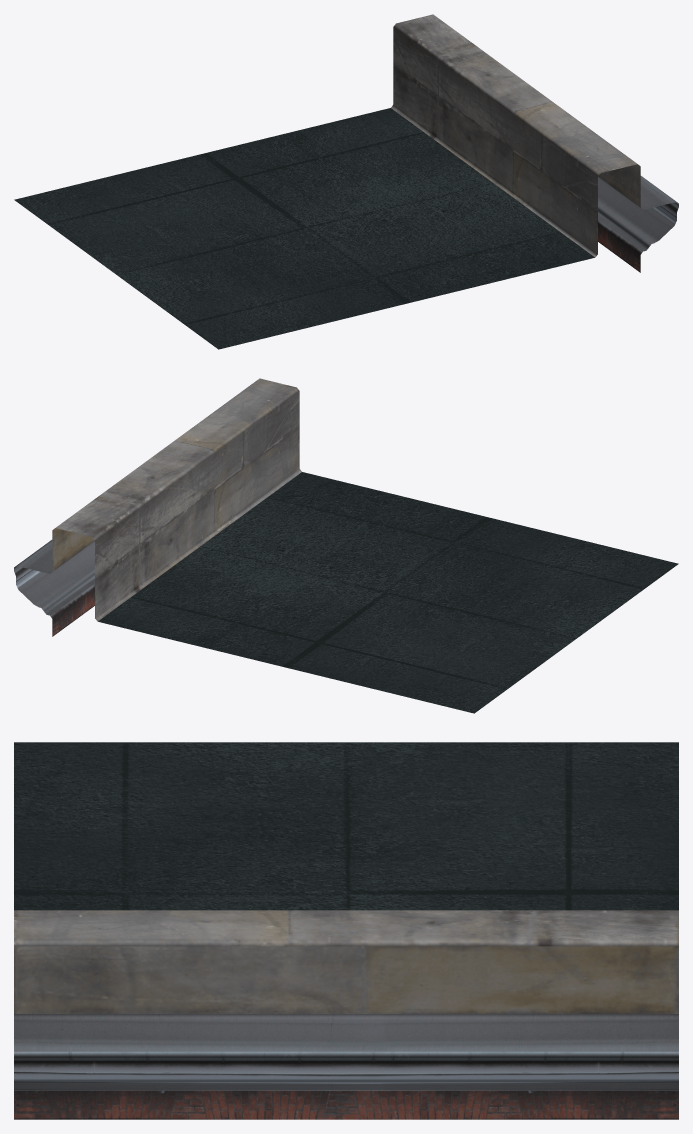
The model's file is ceiling straight.glb.
3 renders of one model, top to bottom at view 1: azimuth 30°, elevation 25°; view 2: azimuth 150°, elevation 25°; view 3: azimuth 270°, elevation 25°, orthographic. The views are drawn at different scales.
Parts seen in each view (by area): view 1: 12-0-R_Straight; view 2: 12-0-R_Straight; view 3: 12-0-R_Straight.
Part boxes in pixels (box(x1,y1,x2,y2)): 12-0-R_Straight: box(14, 14, 678, 349); 12-0-R_Straight: box(14, 378, 678, 713); 12-0-R_Straight: box(14, 742, 678, 1119).
Size of the model in its own units: 1.3 by 0.295 by 1.
Materials: 3 (3 with a texture image).
